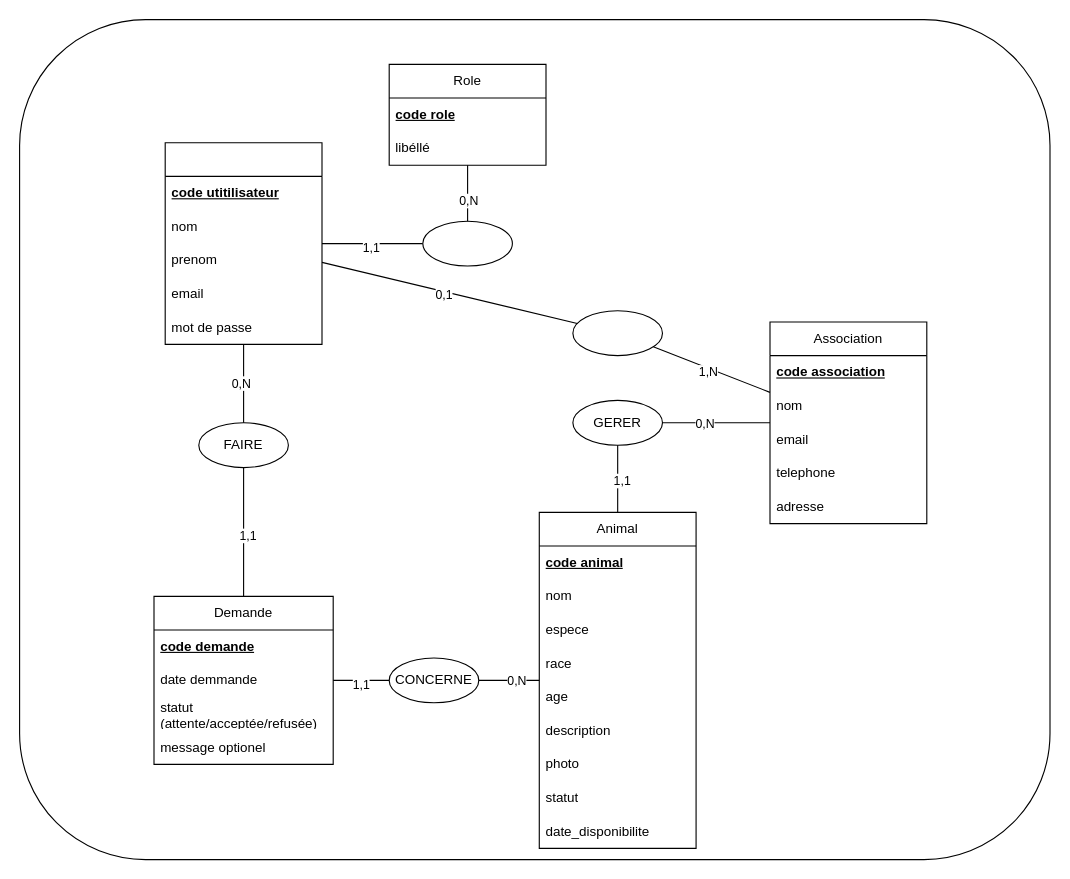
Some shapes in this 1070 by 879 pixel diagram are drawn without their labels. Here are the shapes that lost their labels. From the top down, the box of each, then its label:
(164, 142, 322, 344): Utilisateurs
(422, 220, 512, 266): AVOIR
(572, 310, 662, 356): PARTICIPE
